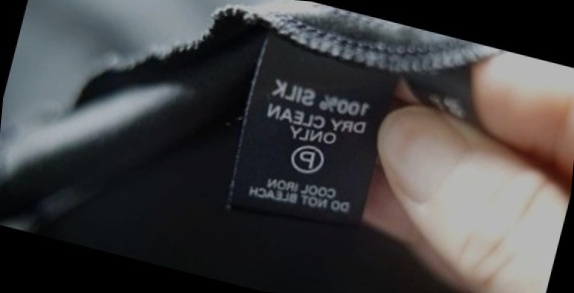dry_clean_any_solvent_except_trichloroethylene: (286, 139, 327, 177)
